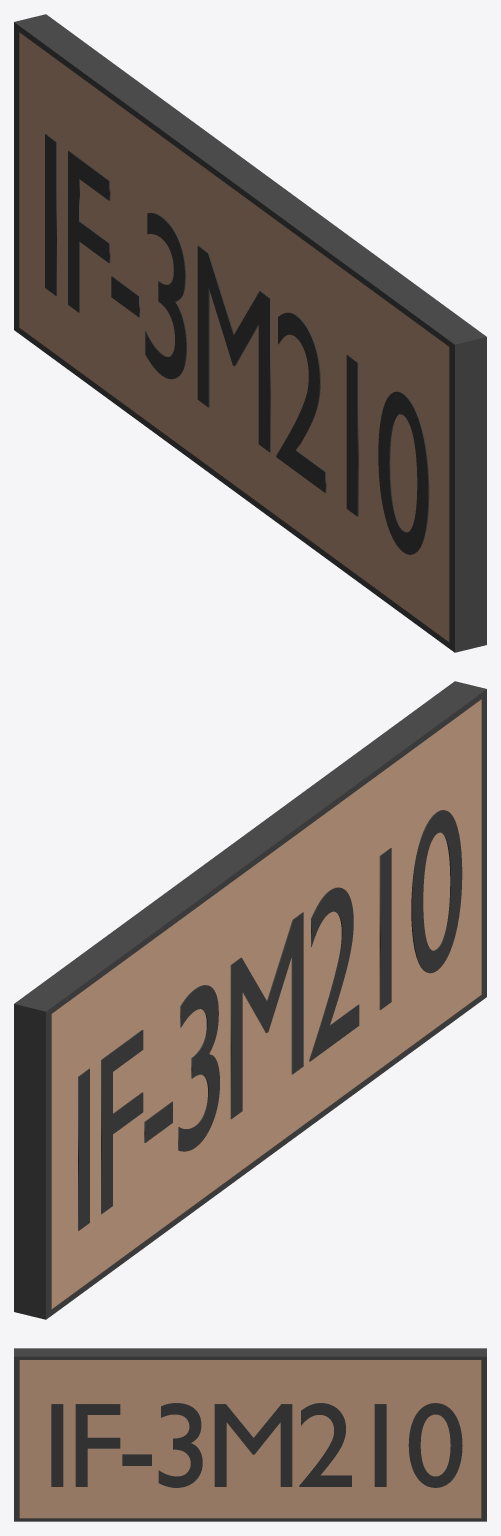
3 views of the same model, one above another, from view 1: azimuth 30°, elevation 25°; view 2: azimuth 150°, elevation 25°; view 3: azimuth 270°, elevation 25° (orthographic). The views are drawn at different scales.
Visible parts, largest first — view 1: Cube; view 2: Cube; view 3: Cube.
Part boxes in pixels (x1,y1,x2,y2): Cube: (14, 14, 486, 652); Cube: (14, 681, 486, 1319); Cube: (14, 1348, 486, 1521).
Size of the model in its own units: 11.03 by 95.12 by 247.
